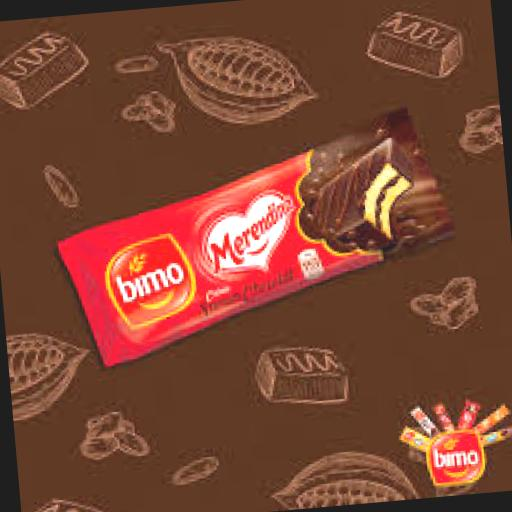merendina: (61, 130, 462, 338)
